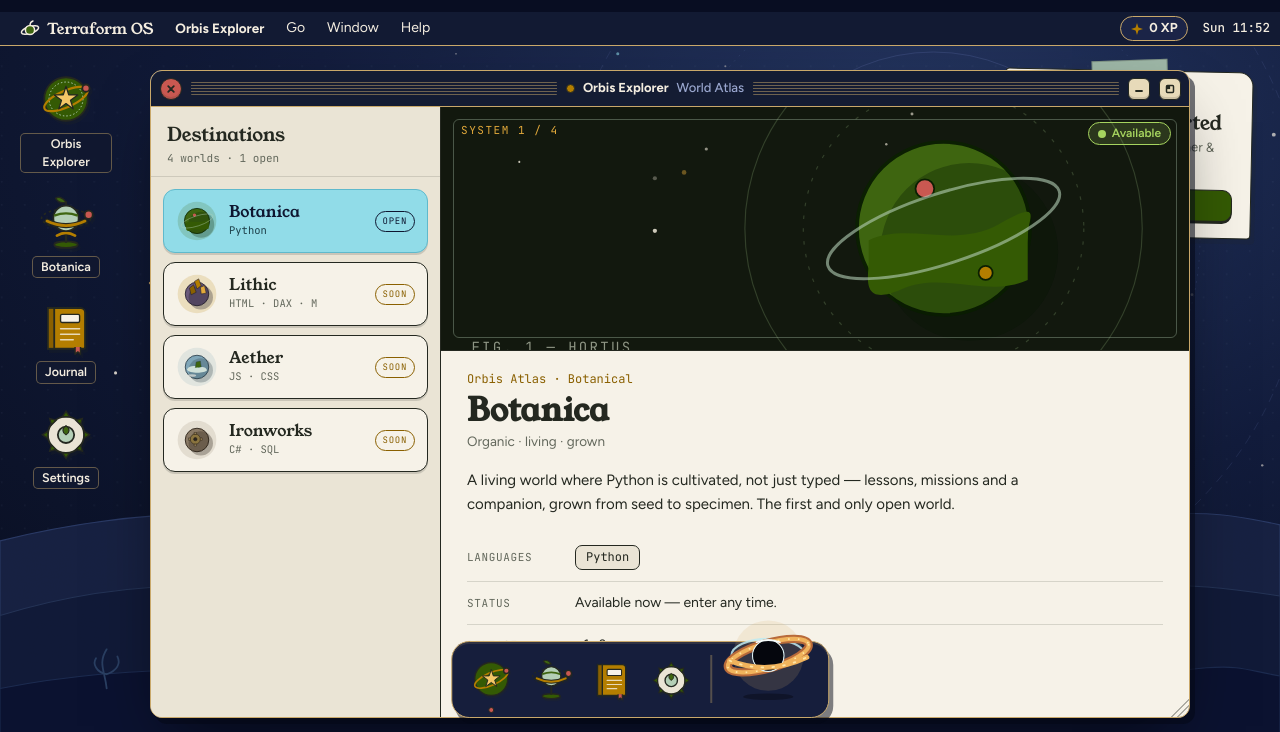
Terraform OS shell › launches into Orbis; Coming Soon worlds never launch
Click the button "Lithic HTML · DAX · M Soon". click: (296, 294)
box: [163, 262, 428, 326]
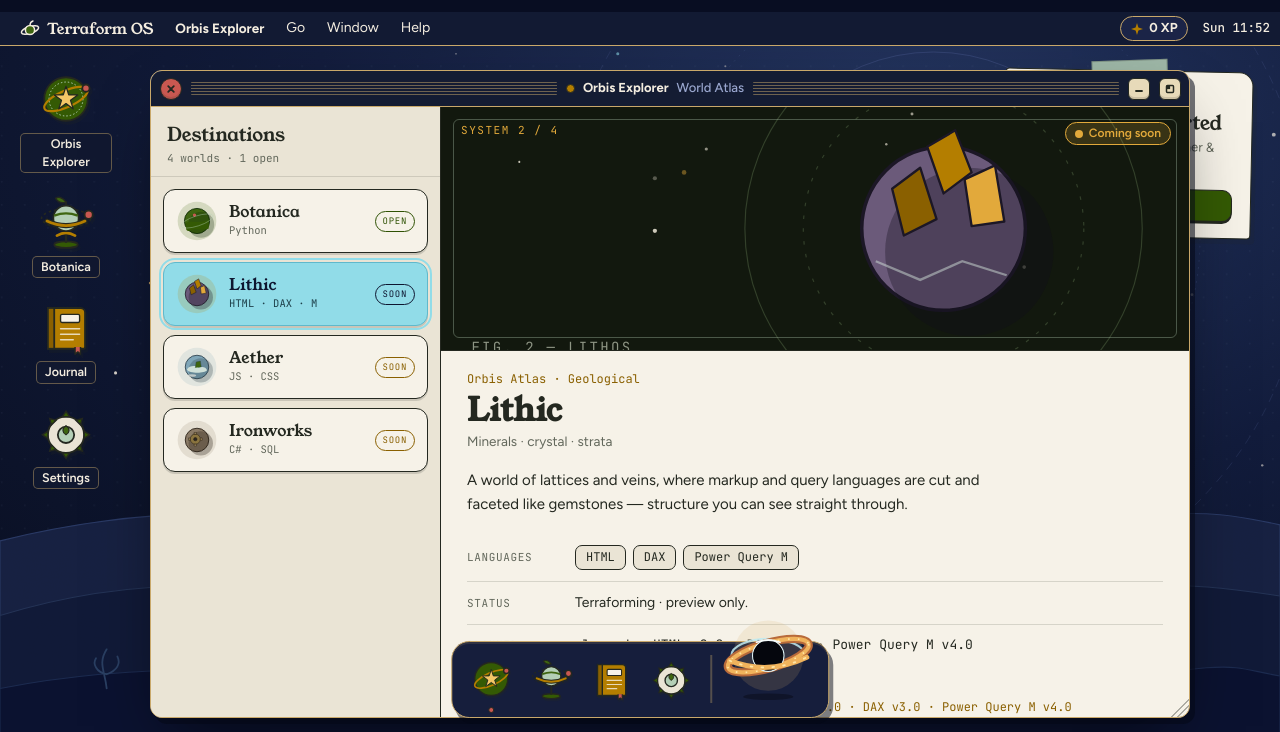
Expected: the button "Coming soon" is disabled, [467, 688, 584, 717]
Expected: the heading "Lithic" is shown, [467, 388, 562, 433]
Expected: the text "planned · HTML v2.0 · DAX v3.0 · Power Query M v4.0" is shown, [575, 636, 973, 655]
